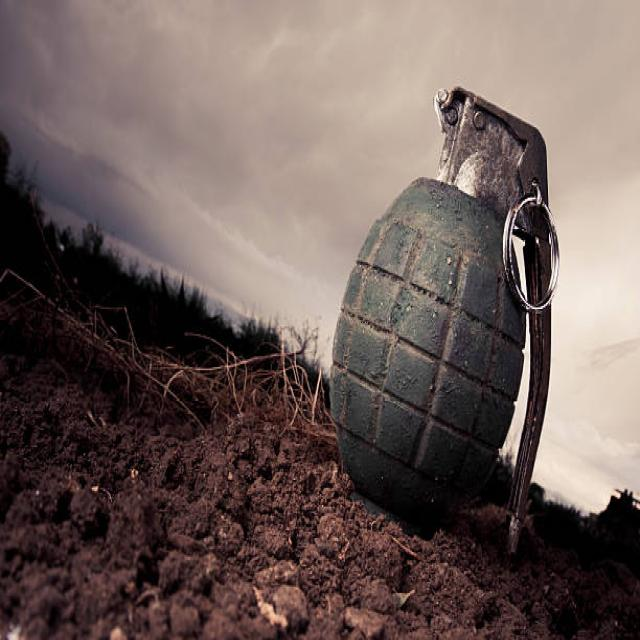grenade: (329, 78, 562, 571)
